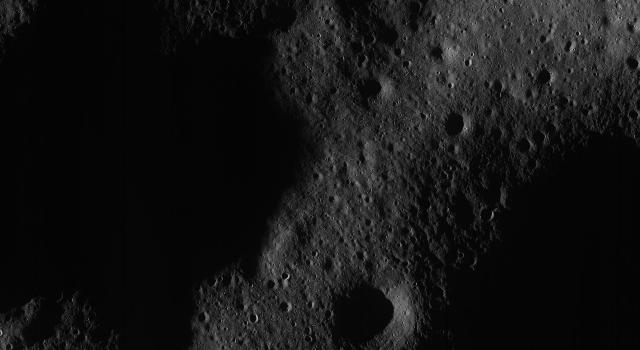crater: (1, 0, 352, 346), (420, 133, 639, 350), (321, 271, 423, 350), (438, 108, 472, 140), (357, 75, 388, 103), (532, 66, 554, 92), (357, 21, 377, 49), (426, 44, 448, 64), (512, 136, 532, 156), (622, 52, 640, 74), (70, 326, 92, 344), (478, 204, 496, 224), (527, 130, 547, 146), (197, 308, 213, 328), (204, 272, 220, 290), (408, 0, 424, 18), (354, 51, 370, 69), (353, 246, 371, 262), (357, 190, 375, 206), (274, 302, 294, 316), (556, 94, 576, 108), (445, 140, 461, 156), (490, 78, 506, 94), (536, 32, 554, 46), (562, 40, 578, 54), (624, 107, 640, 121), (208, 7, 222, 21), (394, 45, 408, 59), (526, 157, 540, 171), (262, 280, 278, 292), (248, 312, 260, 326), (311, 170, 323, 184), (386, 143, 400, 155), (464, 60, 476, 68), (282, 274, 292, 282)
